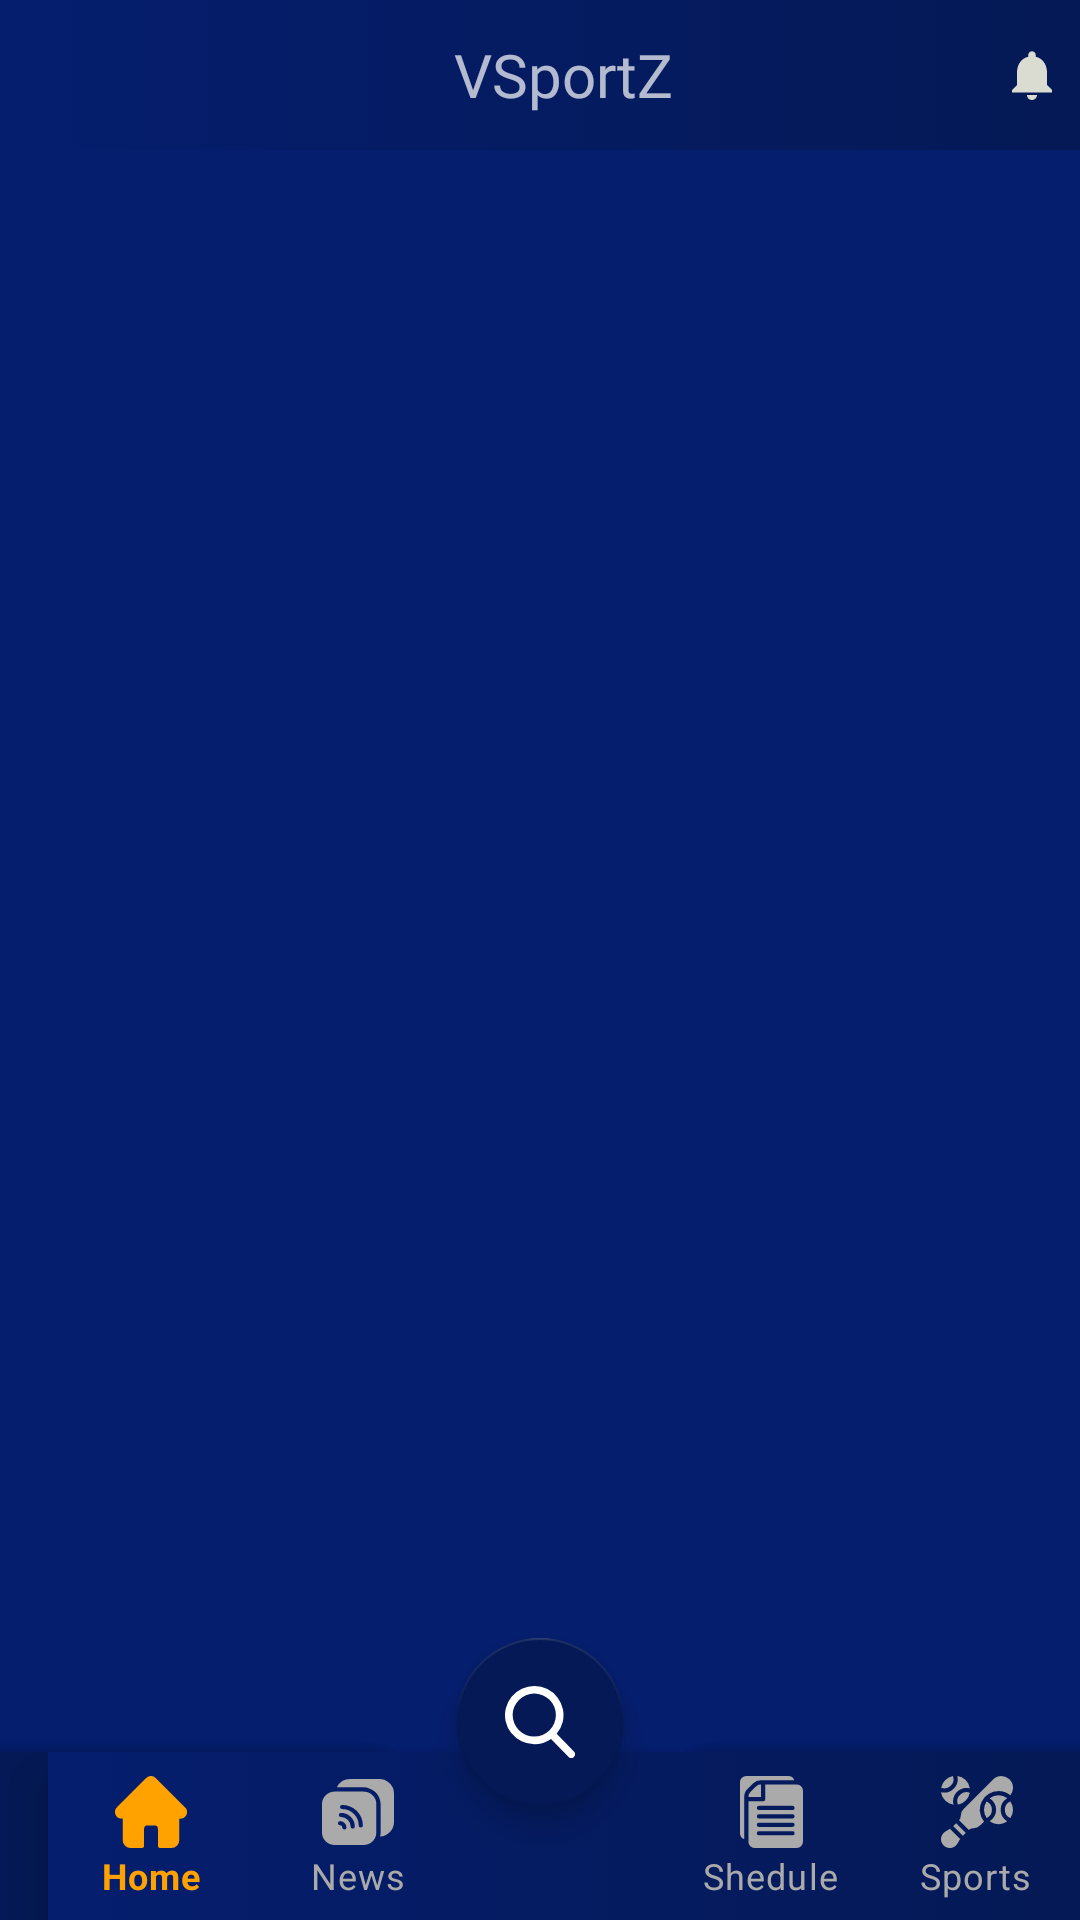

Icon bounding boxes for this 1080*1920 phone screenshot, format (x1,y1,x2,y2):
notifications: (1012,51,1052,100)
search: (456,1668,624,1829)
